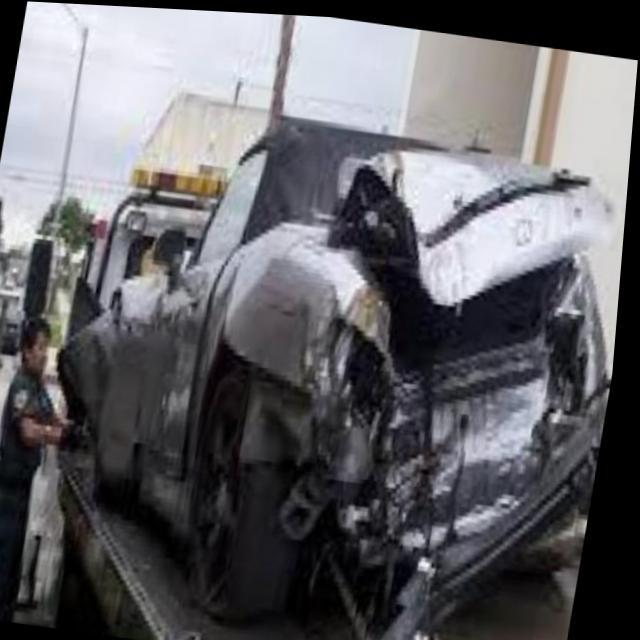crash: (219, 151, 626, 640)
